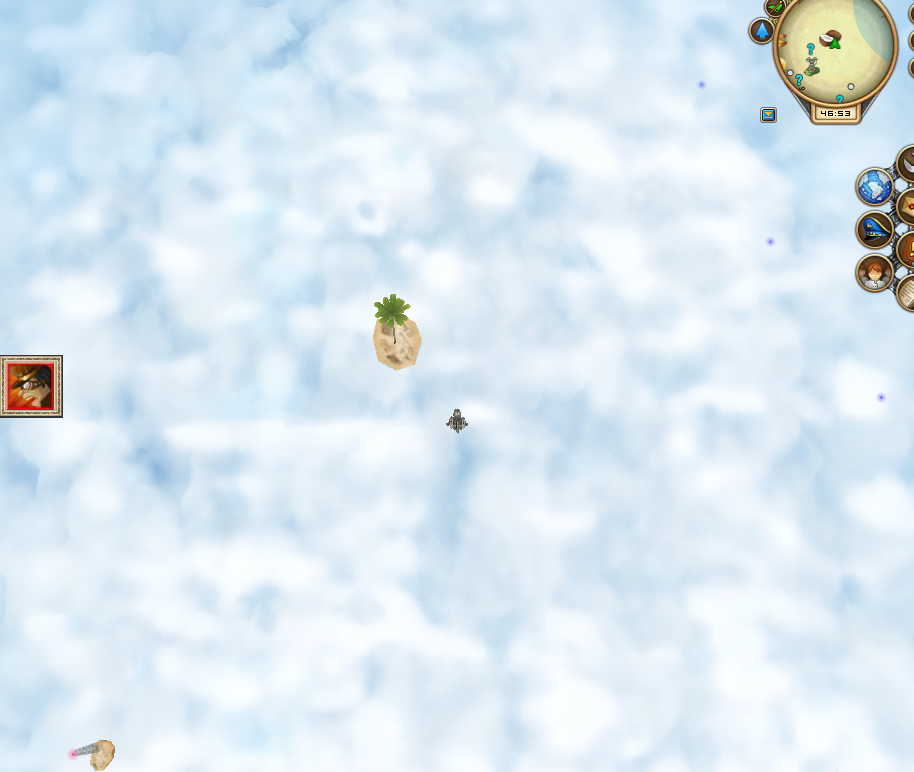dandelion-empty: (361, 293, 428, 375)
